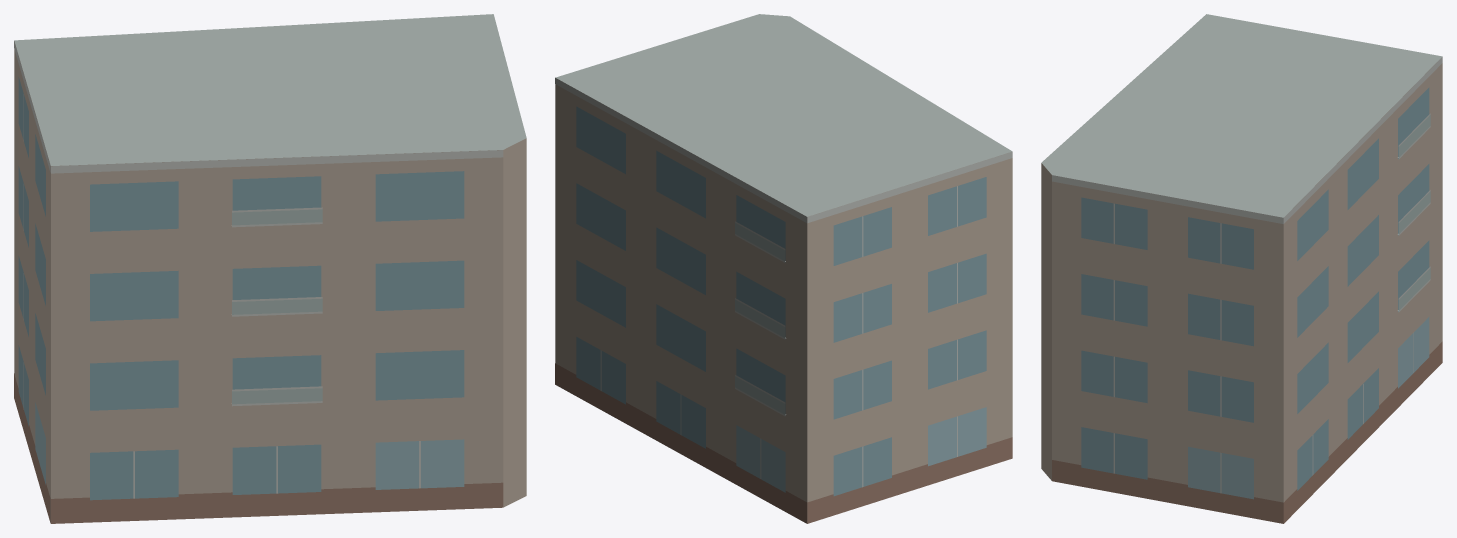
The model's file is survey-upis-32917109.glb.
3 views of the same model, side by side, from view 1: azimuth 30°, elevation 25°; view 2: azimuth 150°, elevation 25°; view 3: azimuth 270°, elevation 25° (orthographic). The views are drawn at different scales.
Parts seen in each view (by area): view 1: survey-upis-32917109.tmp; view 2: survey-upis-32917109.tmp; view 3: survey-upis-32917109.tmp.
Boxes of the visible parts, left/top/right/bottom form: survey-upis-32917109.tmp: left=14, top=14, right=526, bottom=523; survey-upis-32917109.tmp: left=555, top=14, right=1012, bottom=523; survey-upis-32917109.tmp: left=1041, top=14, right=1442, bottom=523.
Size of the model in its own units: 16.57 by 11.6 by 13.79.
